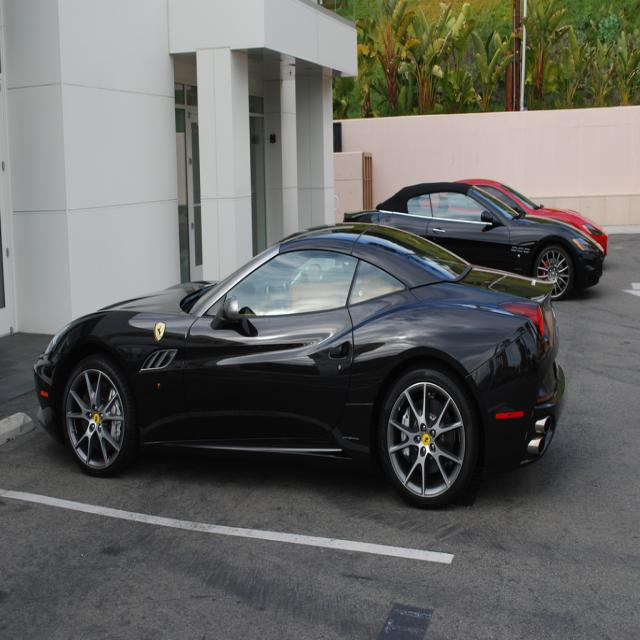car: (32, 211, 553, 502)
